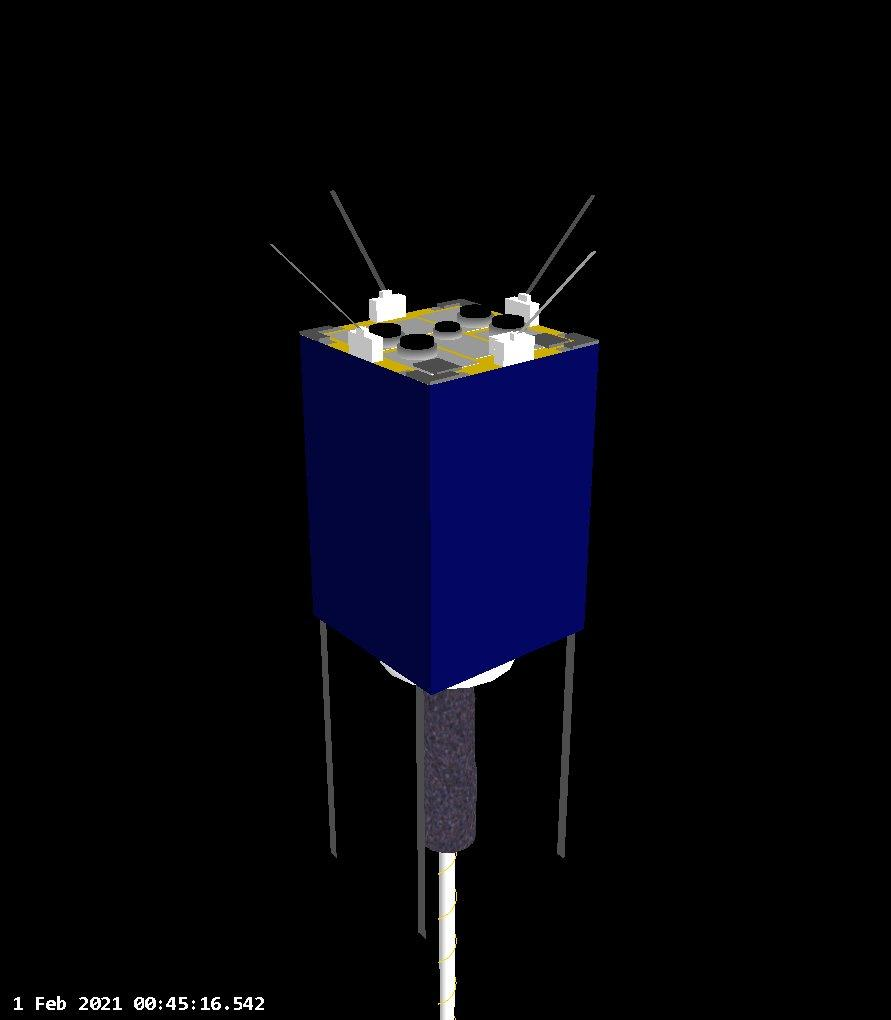antenna: (373, 647, 511, 1020), (518, 184, 600, 308), (267, 236, 367, 337), (507, 245, 603, 342), (313, 614, 345, 865), (327, 182, 390, 296), (554, 629, 583, 868), (410, 675, 435, 941)
body: (295, 292, 604, 700)
solar: (435, 339, 605, 702), (295, 331, 439, 696)
